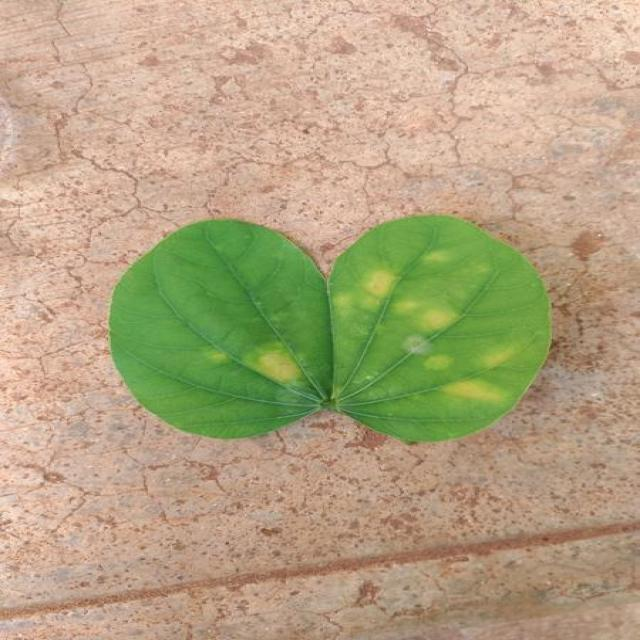Kambajala: (112, 216, 552, 442)
